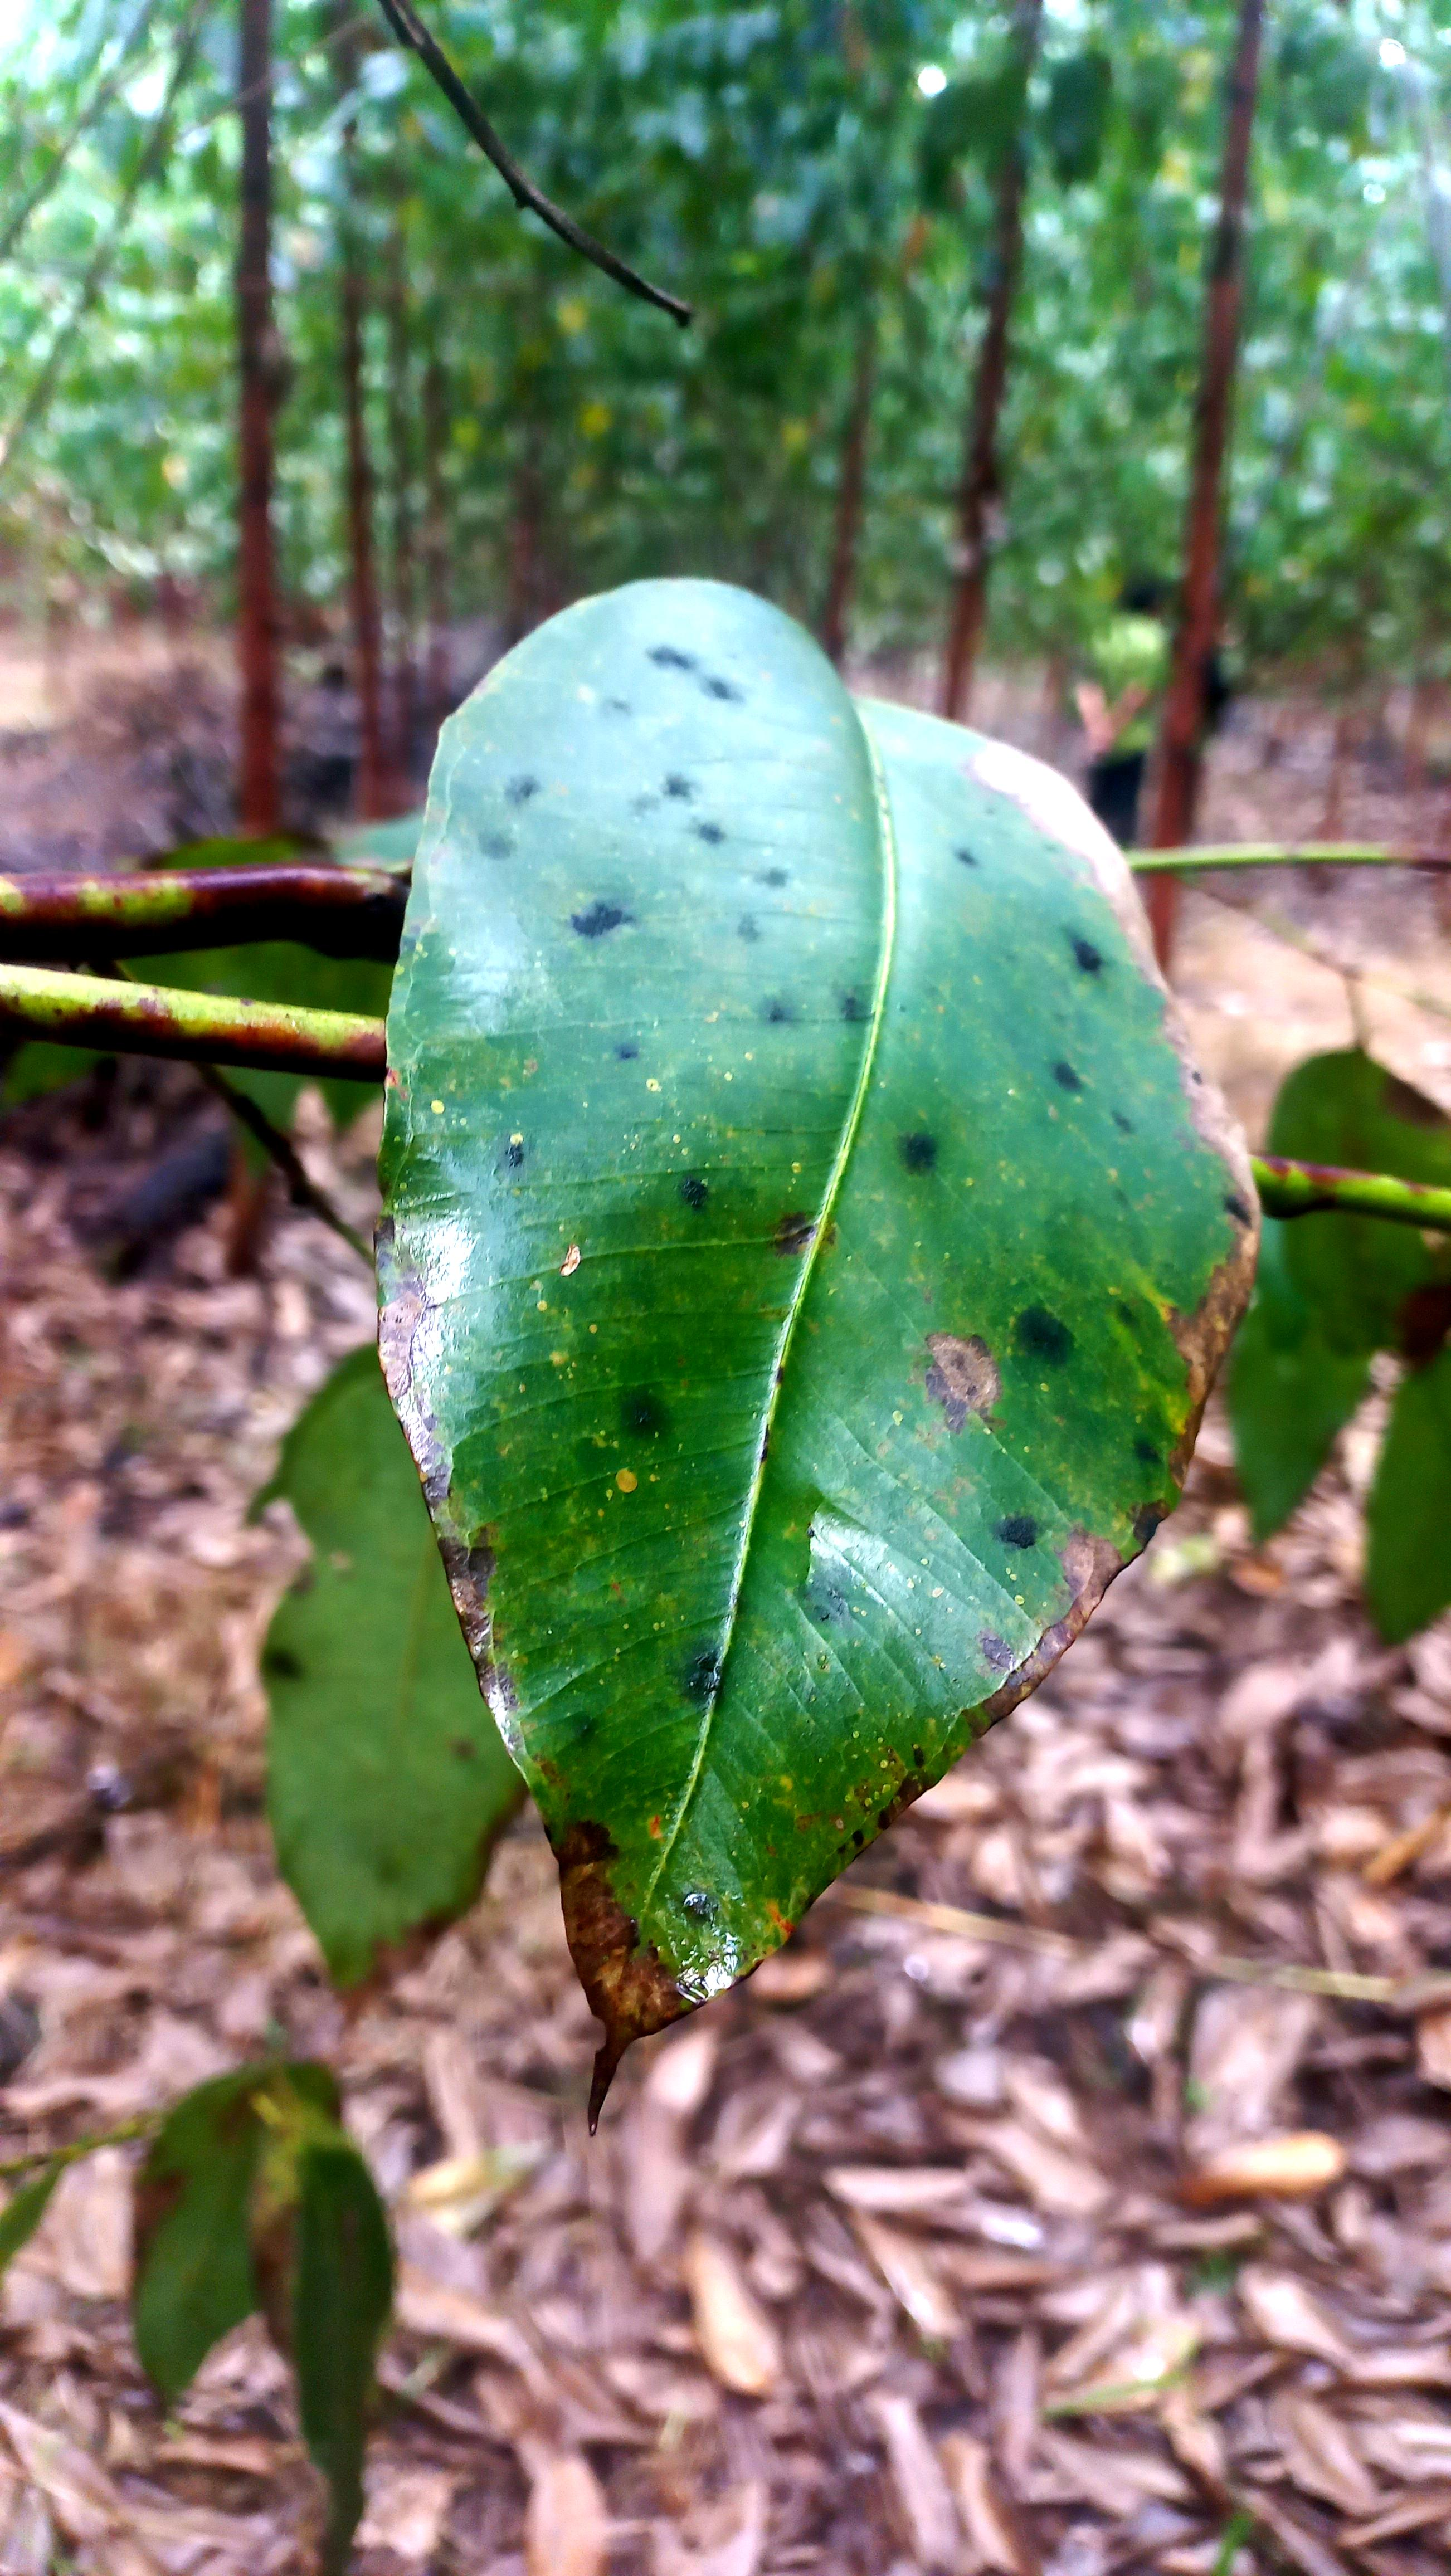Cylindrocladium: (929, 731, 1283, 1776), (518, 1783, 764, 2151)
Embun Jelaga: (419, 619, 1108, 1723)
